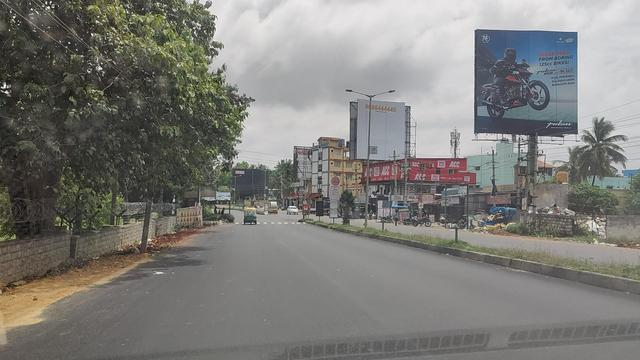LMV: (245, 207, 257, 223)
RoadDamages: (236, 219, 306, 226)
